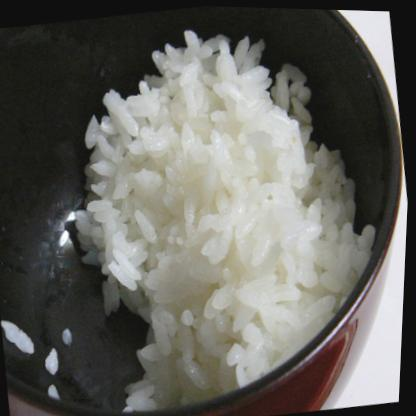rice ball: (24, 0, 396, 415)
